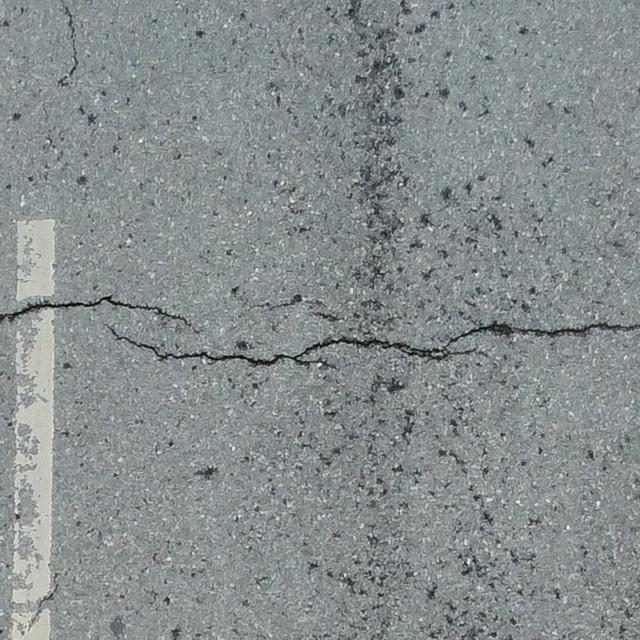TransverseCrack: (102, 317, 640, 368), (1, 299, 201, 332)
